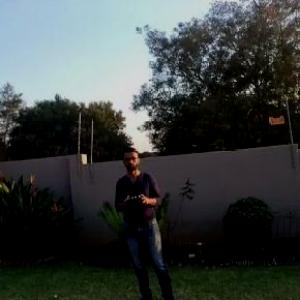follow: (110, 144, 185, 299)
